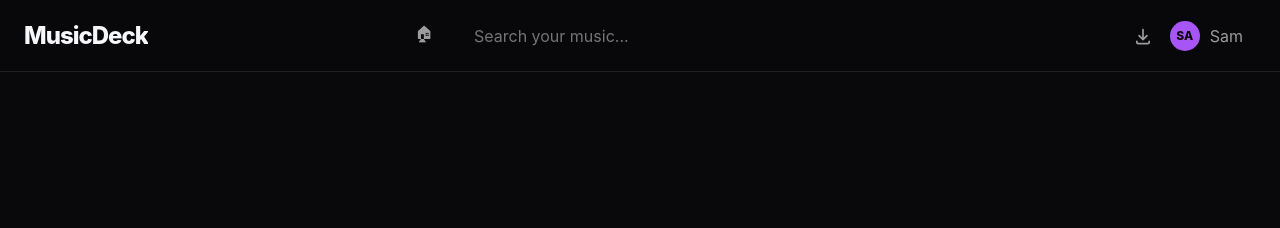
Test: uses a real button for a live-search play result
Type "digital" into the field labelled "Search your music" at [668, 36], box [458, 14, 878, 58]
Wait 250 ms
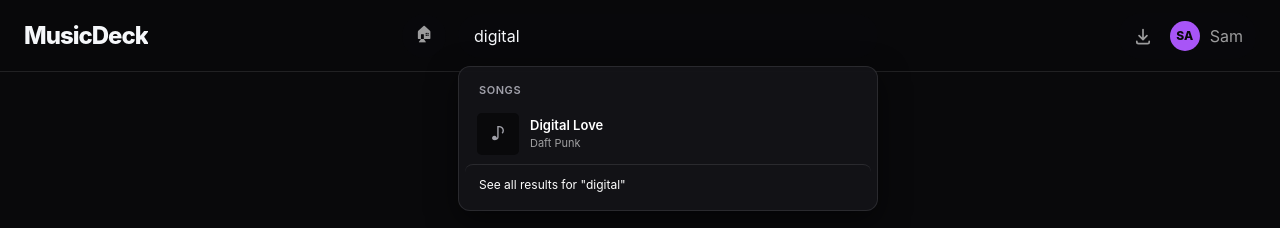
Result: the button "Digital Love" is shown at [530, 117, 829, 133]
